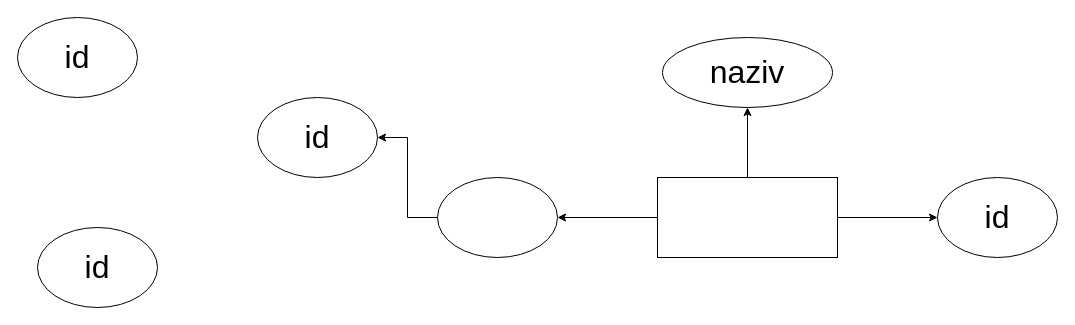
Some shapes in this 1075 by 325 pixel diagram are drawn without their labels. Each missing label, with the box of its shape:
klub: (656, 176, 838, 258)
liga: (436, 176, 558, 258)
